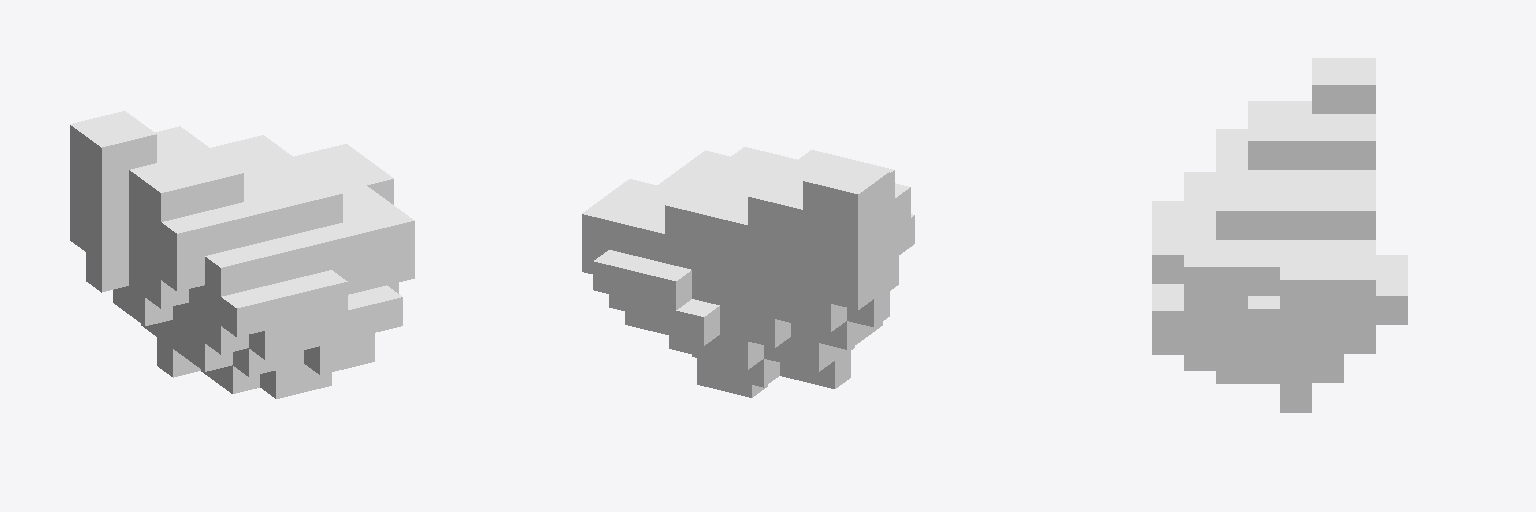
Rendered from meteoro-2.obj.
The picture shows the model from 3 angles: view 1: azimuth 30°, elevation 25°; view 2: azimuth 150°, elevation 25°; view 3: azimuth 270°, elevation 25°; orthographic projection.
Visible parts, largest first — view 1: object 1; view 2: object 1; view 3: object 1.
Boxes of the visible parts, box(x1,y1,x2,y2) form: object 1: box(70, 111, 414, 398); object 1: box(582, 147, 914, 397); object 1: box(1152, 58, 1407, 412).
Size of the model in its own units: 1 by 0.9 by 0.8.